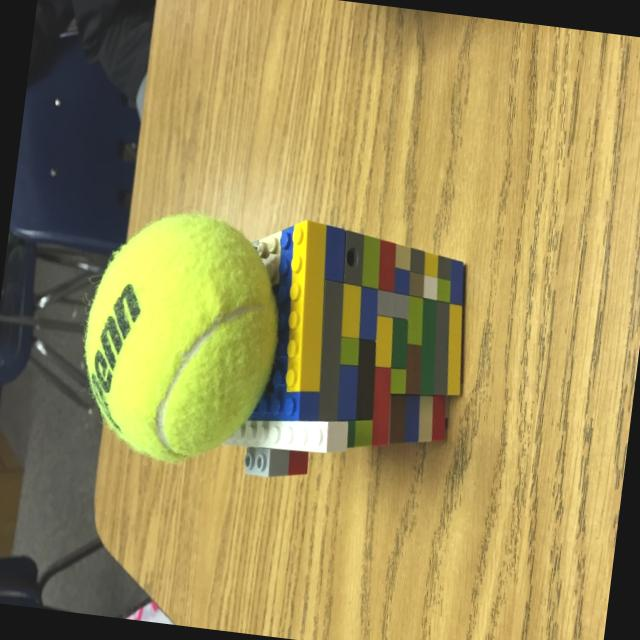Tennis ball: (63, 199, 290, 475)
